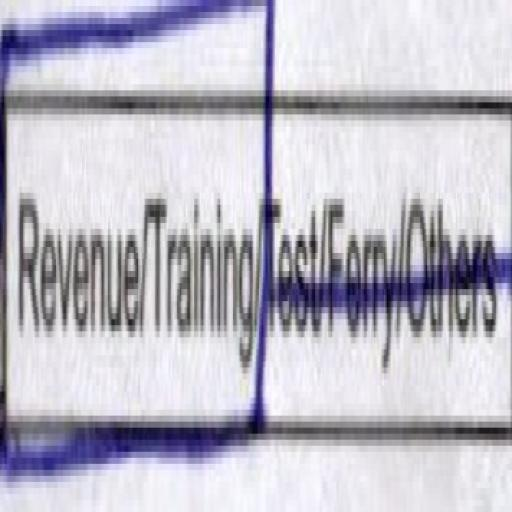check: (0, 0, 142, 512), (144, 2, 264, 512)
